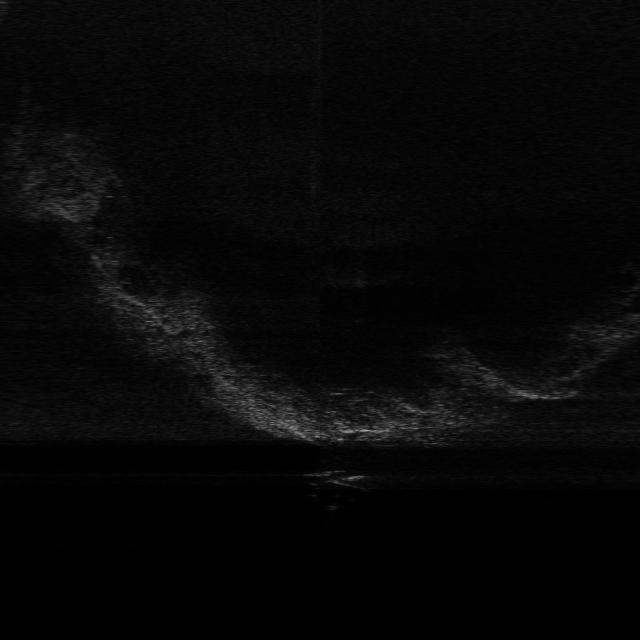plane: (300, 468, 386, 493)
